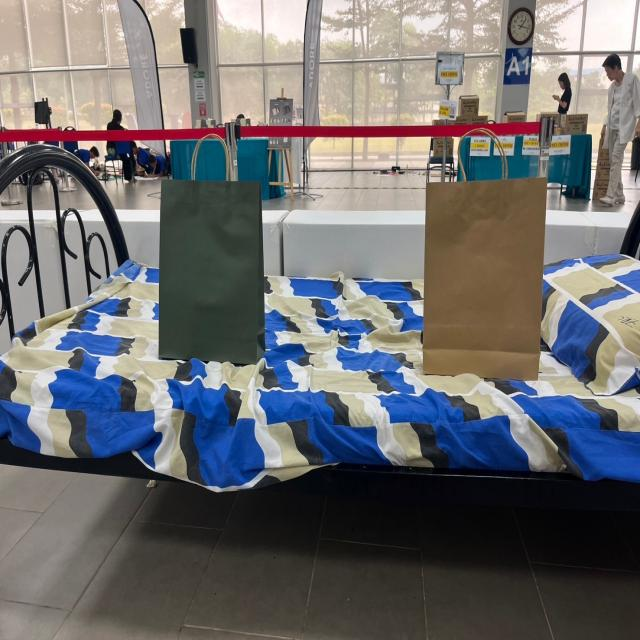bag: (425, 104, 540, 368), (168, 120, 265, 352)
